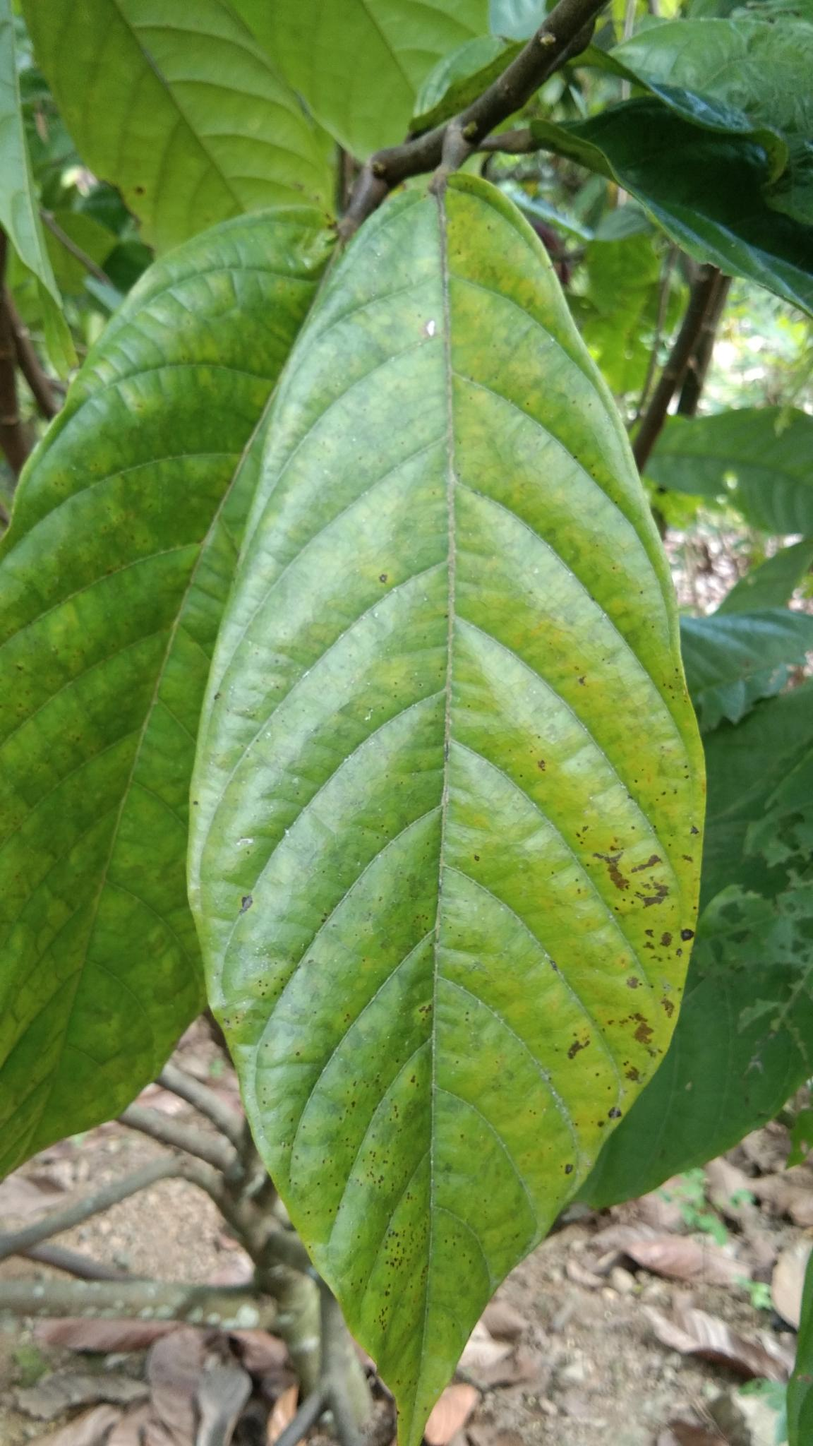Fosforo: (181, 146, 712, 1446), (0, 208, 332, 1173)
